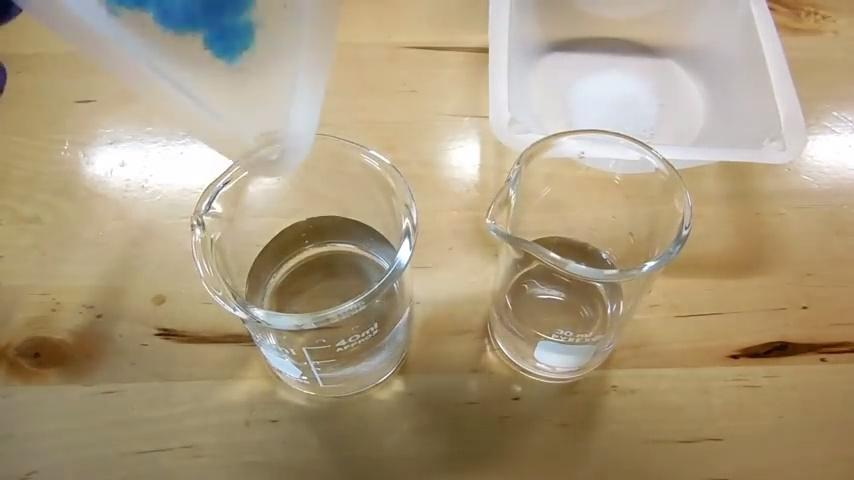Beaker: (196, 132, 419, 403), (487, 113, 697, 391)
